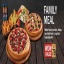pizza: (9, 28, 28, 60), (25, 12, 44, 37)
